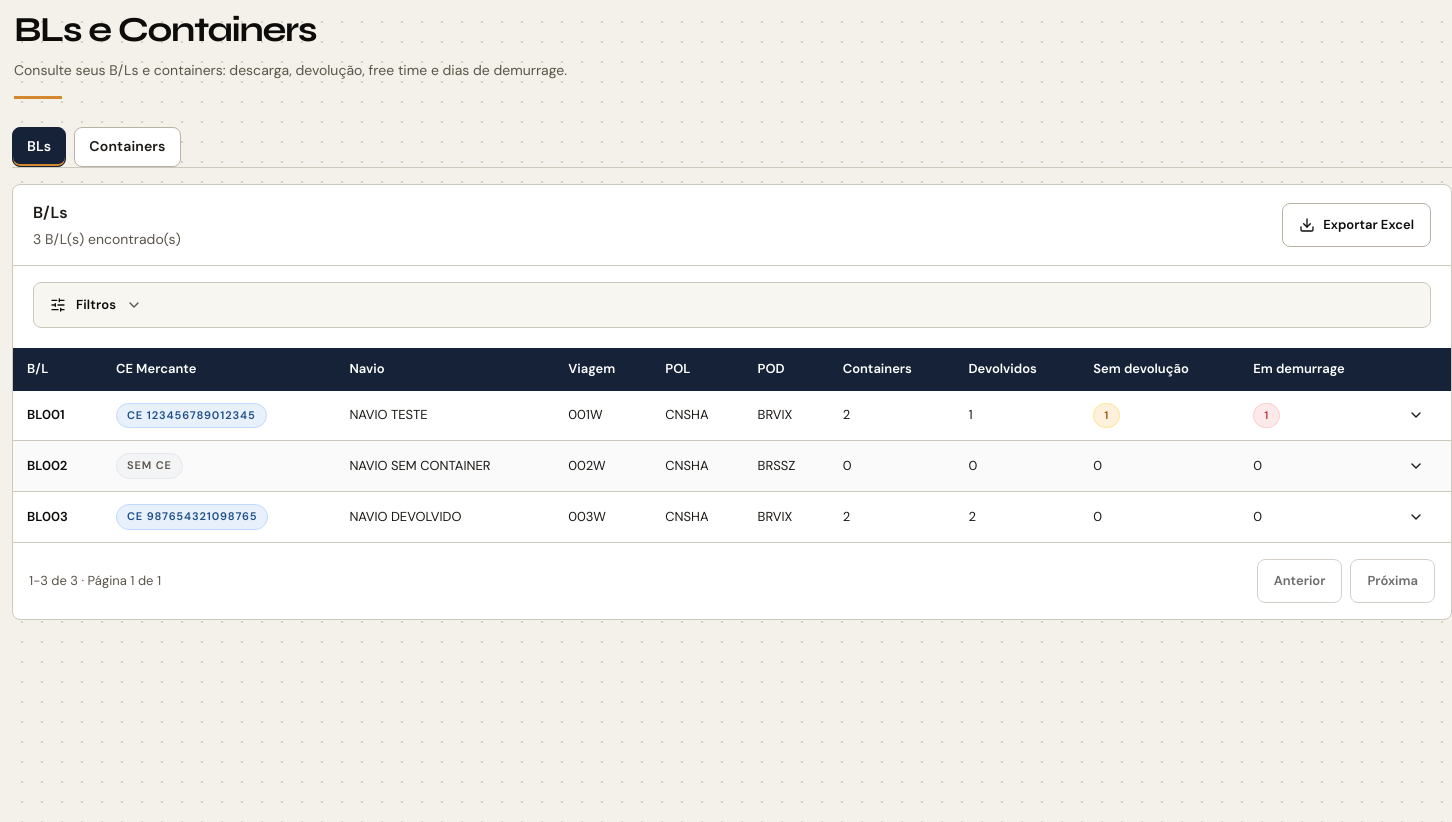
Scenario: PortalOperacao (BLs e Containers) › exibe um card próprio para COD sem publicar dados de transbordo
Step 1. Click the text "BL002" → (57, 466), box left=13, top=441, right=102, bottom=492
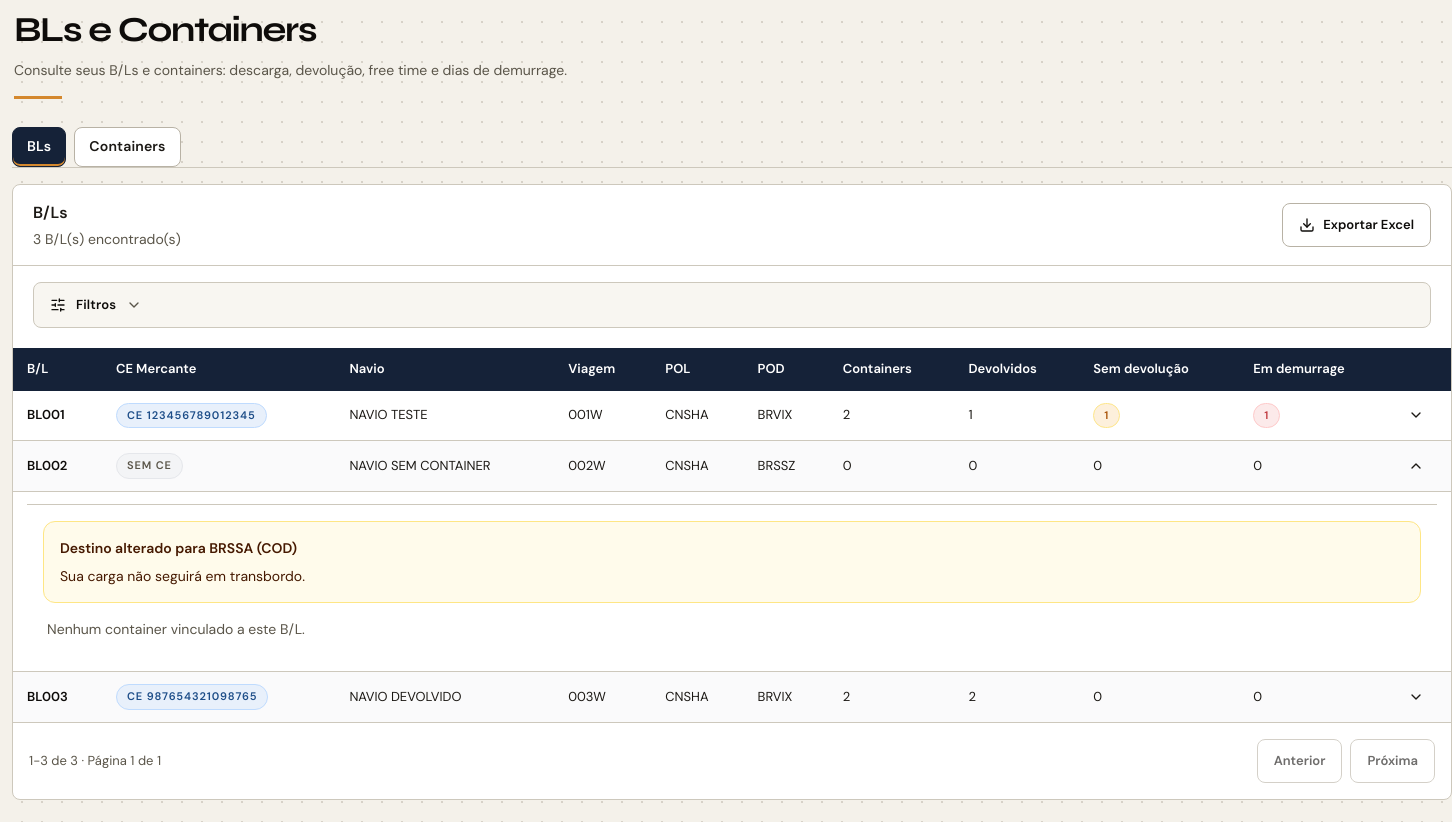
Expected: the heading "Destino alterado para BRSSA (COD)" is shown, left=60, top=539, right=297, bottom=557
Expected: the text "Sua carga não seguirá em transbordo." is shown, left=60, top=567, right=305, bottom=585
Expected: the element "Destino alterado para BRSSA (COD)" is shown, left=43, top=521, right=1421, bottom=603
